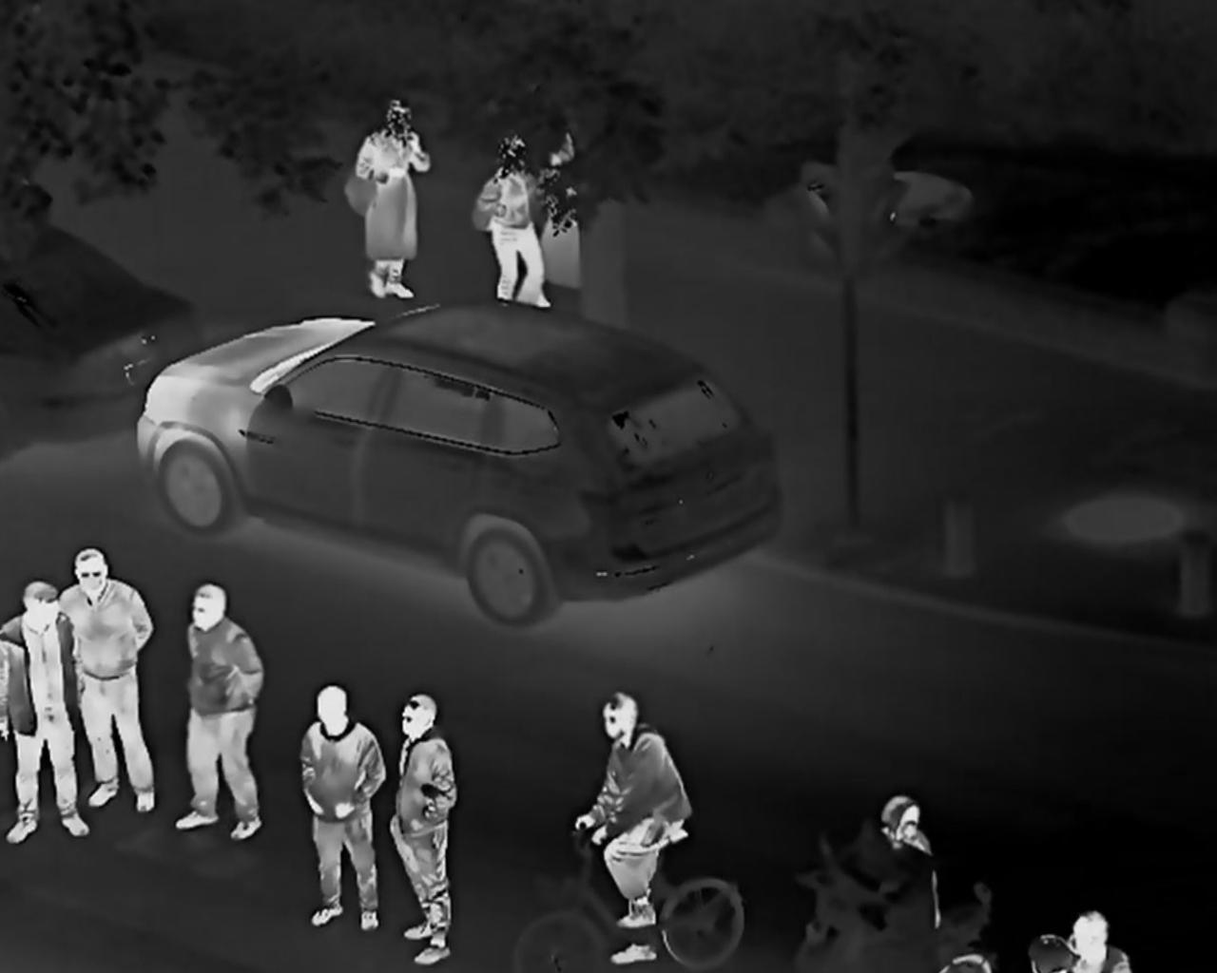person: (582, 681, 700, 962), (70, 548, 167, 811), (289, 663, 384, 923), (383, 684, 468, 953), (178, 579, 261, 849), (10, 575, 71, 850), (474, 120, 552, 310), (354, 103, 415, 309), (865, 791, 943, 908), (1013, 896, 1117, 970)
